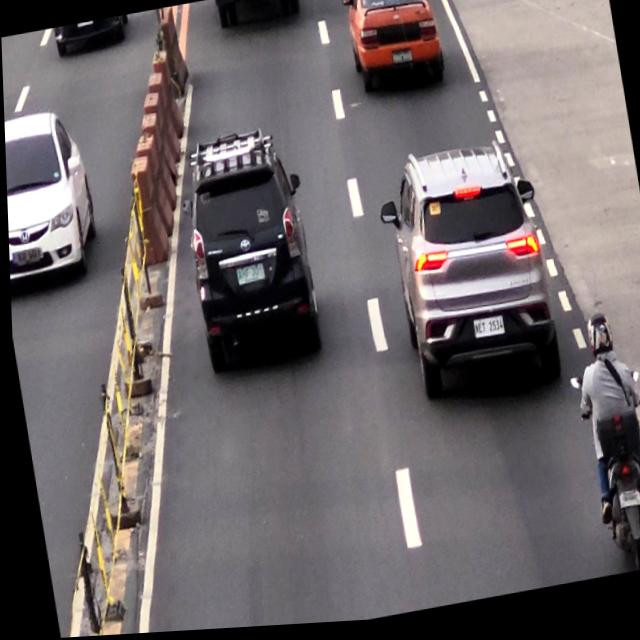Car: (378, 134, 561, 414), (173, 122, 326, 375), (339, 0, 445, 102)
License-Plate: (468, 319, 504, 348), (233, 265, 265, 292), (614, 492, 636, 514)
